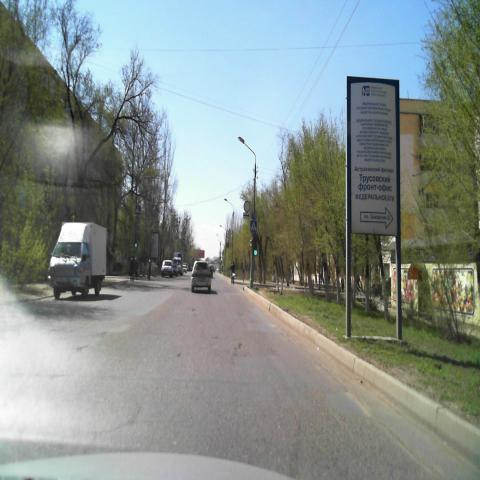3_2: (243, 199, 250, 212)
5_19_1: (250, 220, 256, 231), (135, 205, 141, 215)
